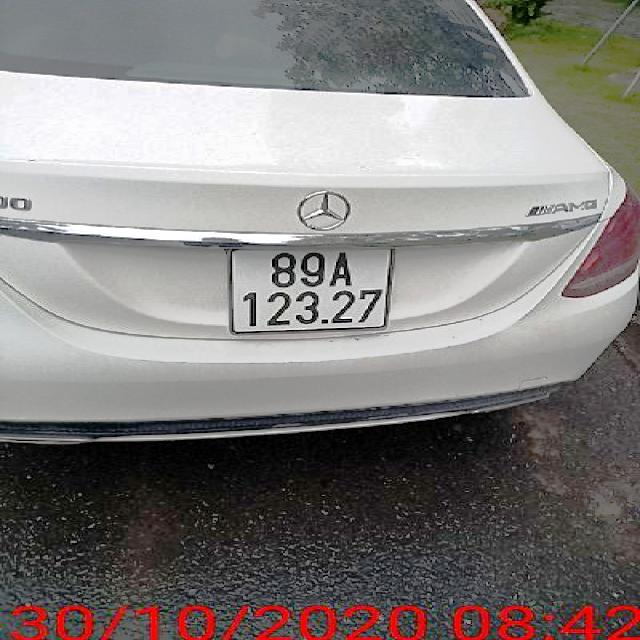license_plate: (229, 249, 392, 334)
